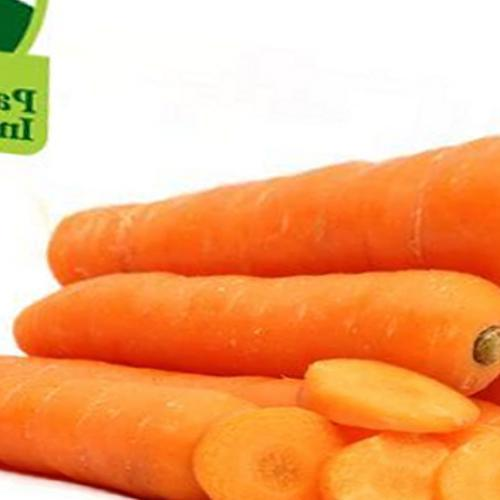carrot: (19, 342, 494, 500), (6, 262, 500, 392), (48, 168, 500, 276)
